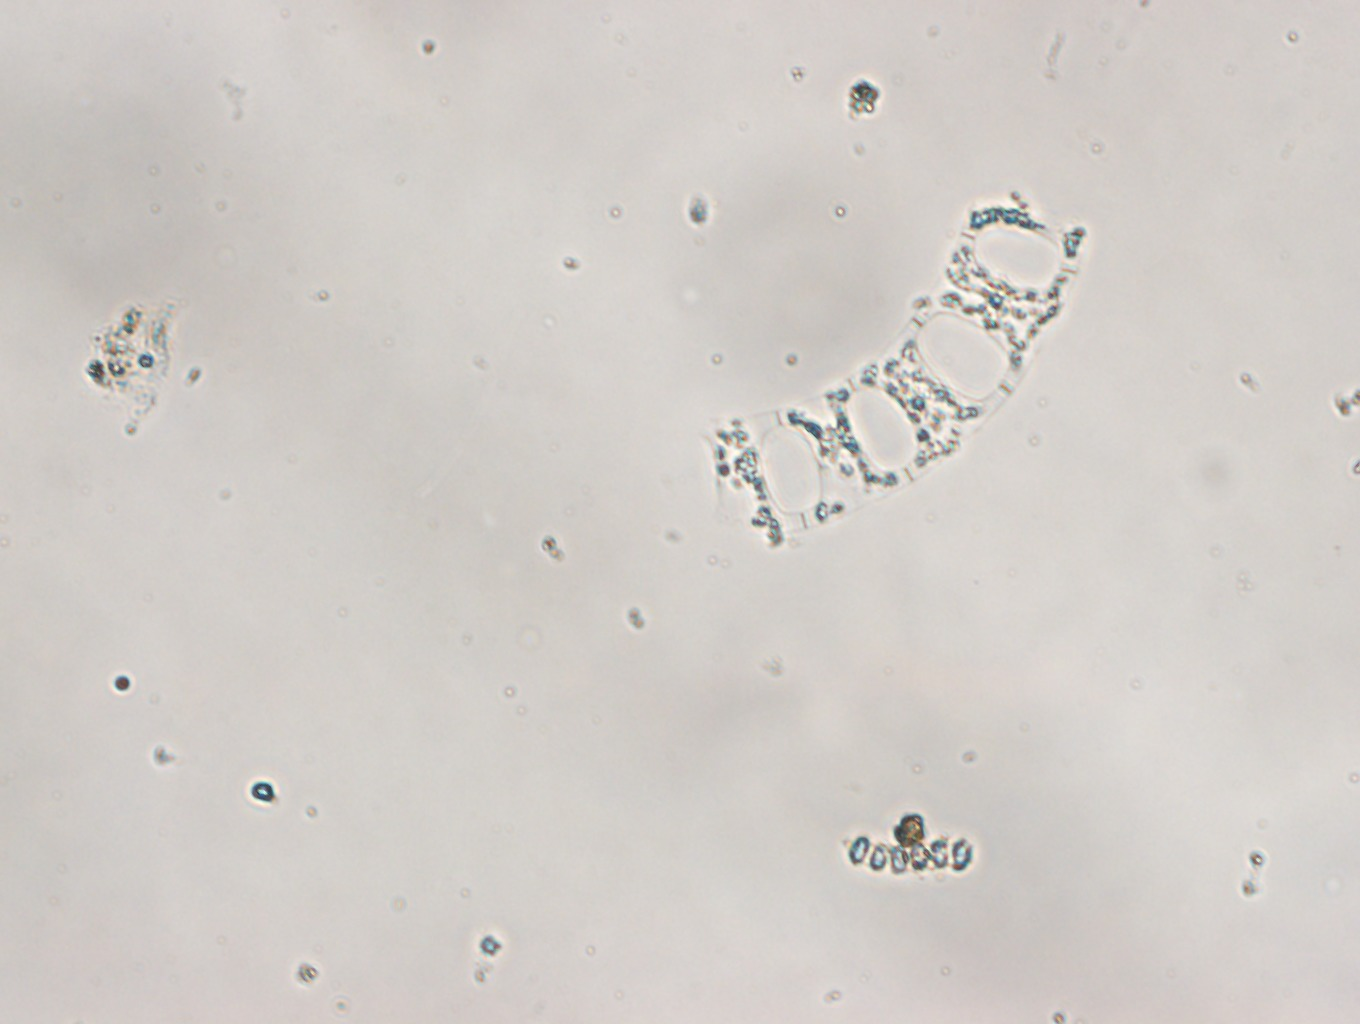eucampia: (706, 187, 1085, 551)
